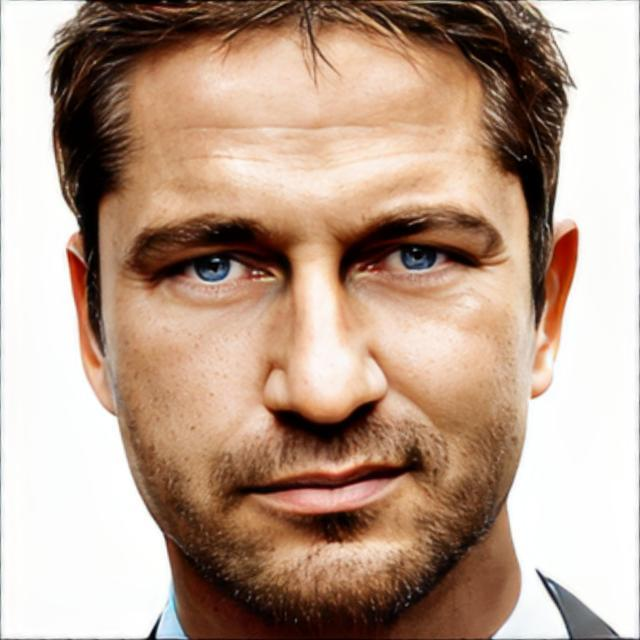content: (96, 21, 536, 634)
